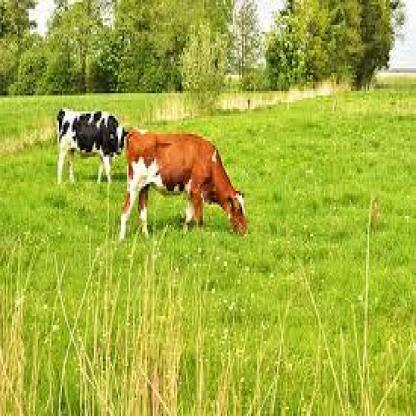cow: (119, 128, 250, 240), (57, 106, 129, 188)
